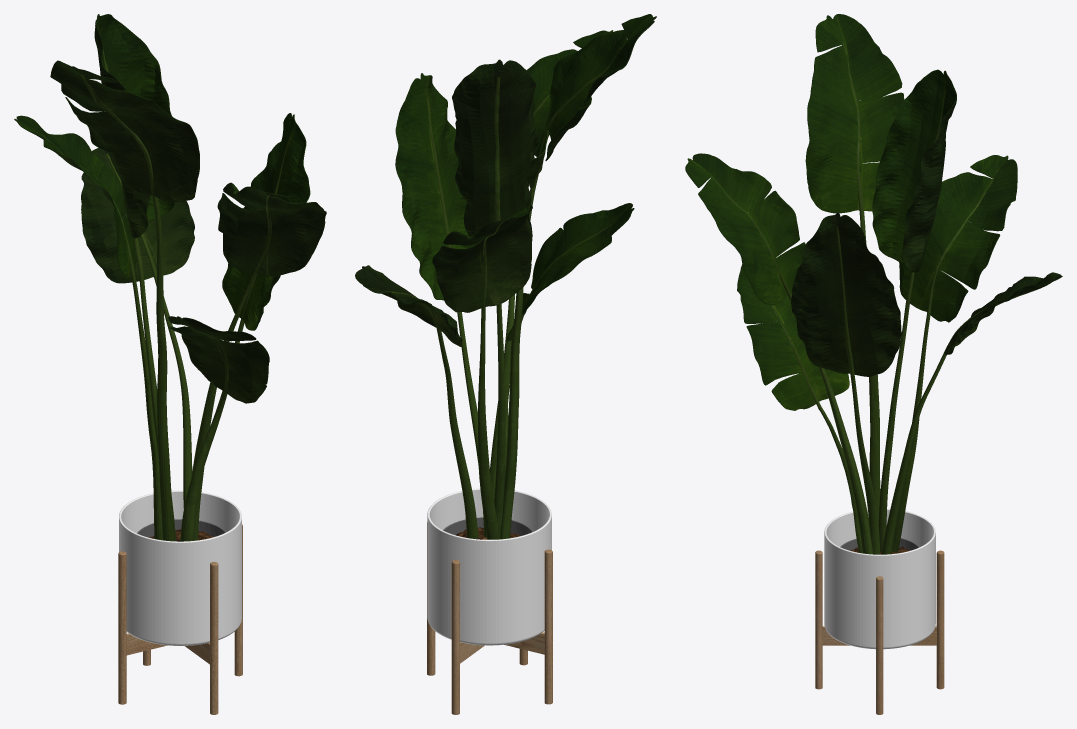
The model's file is plant.glb.
3 renders of one model, left to right at view 1: azimuth 30°, elevation 25°; view 2: azimuth 150°, elevation 25°; view 3: azimuth 270°, elevation 25°, orthographic. The views are drawn at different scales.
Parts seen in each view (by area): view 1: mesh_38_ROOT__Component_5620858_Layer0, mesh_2_ROOT__Banana_Leaf_Plant__Component_5620856__Component, mesh_12_ROOT__Banana_Leaf_Plant__Component_5620856__Componen, mesh_27_ROOT__Banana_Leaf_Plant__Component_5620856__Componen, mesh_7_ROOT__Banana_Leaf_Plant__Component_5620856__Component, mesh_32_ROOT__Banana_Leaf_Plant__Component_5620856__Componen, mesh_18_ROOT__Banana_Leaf_Plant__Component_5620856__Componen, mesh_5_ROOT__Banana_Leaf_Plant__Component_5620856__Component, mesh_0_ROOT_Layer0_191_163_129_ss, mesh_23_ROOT__Banana_Leaf_Plant__Component_5620856__Componen, mesh_25_ROOT__Banana_Leaf_Plant__Component_5620856__Componen, mesh_29_ROOT__Banana_Leaf_Plant__Component_5620856__Componen (+7 smaller); view 2: mesh_38_ROOT__Component_5620858_Layer0, mesh_17_ROOT__Banana_Leaf_Plant__Component_5620856__Componen, mesh_32_ROOT__Banana_Leaf_Plant__Component_5620856__Componen, mesh_22_ROOT__Banana_Leaf_Plant__Component_5620856__Componen, mesh_3_ROOT__Banana_Leaf_Plant__Component_5620856__Component, mesh_8_ROOT__Banana_Leaf_Plant__Component_5620856__Component, mesh_0_ROOT_Layer0_191_163_129_ss, mesh_5_ROOT__Banana_Leaf_Plant__Component_5620856__Component, mesh_20_ROOT__Banana_Leaf_Plant__Component_5620856__Componen, mesh_25_ROOT__Banana_Leaf_Plant__Component_5620856__Componen, mesh_29_ROOT__Banana_Leaf_Plant__Component_5620856__Componen, mesh_13_ROOT__Banana_Leaf_Plant__Component_5620856__Componen (+7 smaller); view 3: mesh_3_ROOT__Banana_Leaf_Plant__Component_5620856__Component, mesh_31_ROOT__Banana_Leaf_Plant__Component_5620856__Componen, mesh_38_ROOT__Component_5620858_Layer0, mesh_23_ROOT__Banana_Leaf_Plant__Component_5620856__Componen, mesh_13_ROOT__Banana_Leaf_Plant__Component_5620856__Componen, mesh_18_ROOT__Banana_Leaf_Plant__Component_5620856__Componen, mesh_8_ROOT__Banana_Leaf_Plant__Component_5620856__Component, mesh_0_ROOT_Layer0_191_163_129_ss, mesh_17_ROOT__Banana_Leaf_Plant__Component_5620856__Componen, mesh_15_ROOT__Banana_Leaf_Plant__Component_5620856__Componen, mesh_5_ROOT__Banana_Leaf_Plant__Component_5620856__Component, mesh_20_ROOT__Banana_Leaf_Plant__Component_5620856__Componen (+5 smaller).
Part boxes in pixels (x1,y1,x2,y2): mesh_38_ROOT__Component_5620858_Layer0: (119,490,241,645); mesh_2_ROOT__Banana_Leaf_Plant__Component_5620856__Component: (50,60,199,202); mesh_12_ROOT__Banana_Leaf_Plant__Component_5620856__Componen: (217,183,326,276); mesh_27_ROOT__Banana_Leaf_Plant__Component_5620856__Componen: (81,147,194,283); mesh_7_ROOT__Banana_Leaf_Plant__Component_5620856__Component: (168,316,269,403); mesh_32_ROOT__Banana_Leaf_Plant__Component_5620856__Componen: (222,113,309,330); mesh_18_ROOT__Banana_Leaf_Plant__Component_5620856__Componen: (96,14,174,229); mesh_5_ROOT__Banana_Leaf_Plant__Component_5620856__Component: (81,74,174,541); mesh_0_ROOT_Layer0_191_163_129_ss: (118,524,242,714); mesh_23_ROOT__Banana_Leaf_Plant__Component_5620856__Componen: (14,115,139,278); mesh_25_ROOT__Banana_Leaf_Plant__Component_5620856__Componen: (38,131,162,540); mesh_29_ROOT__Banana_Leaf_Plant__Component_5620856__Componen: (106,153,192,508); mesh_38_ROOT__Component_5620858_Layer0: (427,488,551,645); mesh_17_ROOT__Banana_Leaf_Plant__Component_5620856__Componen: (452,59,538,244); mesh_32_ROOT__Banana_Leaf_Plant__Component_5620856__Componen: (395,73,475,300); mesh_22_ROOT__Banana_Leaf_Plant__Component_5620856__Componen: (432,203,532,312); mesh_3_ROOT__Banana_Leaf_Plant__Component_5620856__Component: (529,14,656,186); mesh_8_ROOT__Banana_Leaf_Plant__Component_5620856__Component: (506,203,634,340); mesh_0_ROOT_Layer0_191_163_129_ss: (427,522,552,714); mesh_5_ROOT__Banana_Leaf_Plant__Component_5620856__Component: (500,40,627,539); mesh_20_ROOT__Banana_Leaf_Plant__Component_5620856__Componen: (494,77,505,538); mesh_25_ROOT__Banana_Leaf_Plant__Component_5620856__Componen: (478,221,504,539); mesh_29_ROOT__Banana_Leaf_Plant__Component_5620856__Componen: (372,288,478,538); mesh_13_ROOT__Banana_Leaf_Plant__Component_5620856__Componen: (526,30,613,186); mesh_3_ROOT__Banana_Leaf_Plant__Component_5620856__Component: (805,14,904,213); mesh_31_ROOT__Banana_Leaf_Plant__Component_5620856__Componen: (791,212,901,376); mesh_38_ROOT__Component_5620858_Layer0: (824,508,935,649); mesh_23_ROOT__Banana_Leaf_Plant__Component_5620856__Componen: (899,155,1017,322); mesh_13_ROOT__Banana_Leaf_Plant__Component_5620856__Componen: (685,153,805,305); mesh_18_ROOT__Banana_Leaf_Plant__Component_5620856__Componen: (872,69,956,263); mesh_8_ROOT__Banana_Leaf_Plant__Component_5620856__Component: (737,264,849,410); mesh_0_ROOT_Layer0_191_163_129_ss: (815,550,944,714); mesh_17_ROOT__Banana_Leaf_Plant__Component_5620856__Componen: (872,71,956,272); mesh_15_ROOT__Banana_Leaf_Plant__Component_5620856__Componen: (704,170,873,554); mesh_5_ROOT__Banana_Leaf_Plant__Component_5620856__Component: (839,35,880,522); mesh_20_ROOT__Banana_Leaf_Plant__Component_5620856__Componen: (878,91,946,551).
Size of the model in its own units: 787 by 2137 by 1194.
9 materials, 6 textured.
